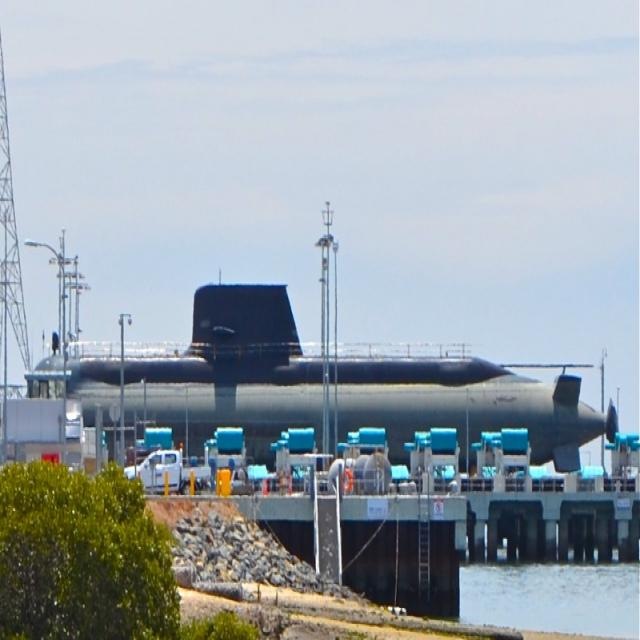submarine: (67, 283, 622, 456)
